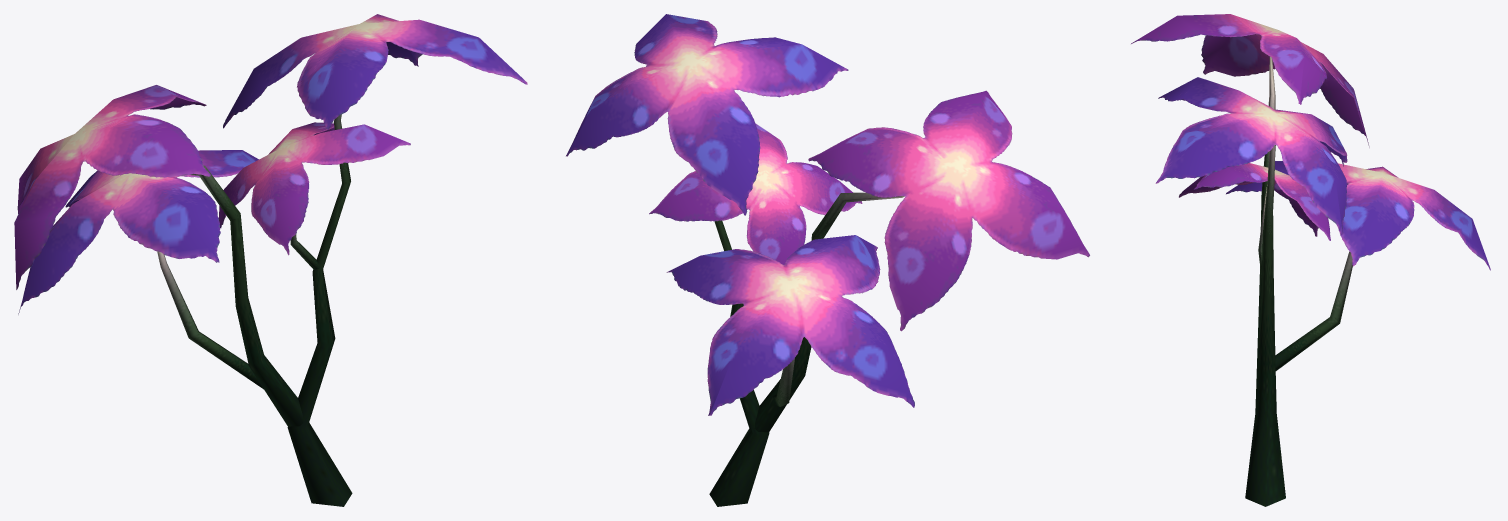
File: cj_tree6.fbx
The picture shows the model from 3 angles, left to right: view 1: azimuth 30°, elevation 25°; view 2: azimuth 150°, elevation 25°; view 3: azimuth 270°, elevation 25°; orthographic projection. The views are drawn at different scales.
Parts seen in each view (by area): view 1: cj_tree6; view 2: cj_tree6; view 3: cj_tree6.
Boxes of the visible parts, x1,y1,x2,y2 form: cj_tree6: (14, 14, 527, 506); cj_tree6: (566, 14, 1089, 506); cj_tree6: (1131, 14, 1490, 506).
Bounding box in the file's own units: 3063 × 2818 × 2319.
